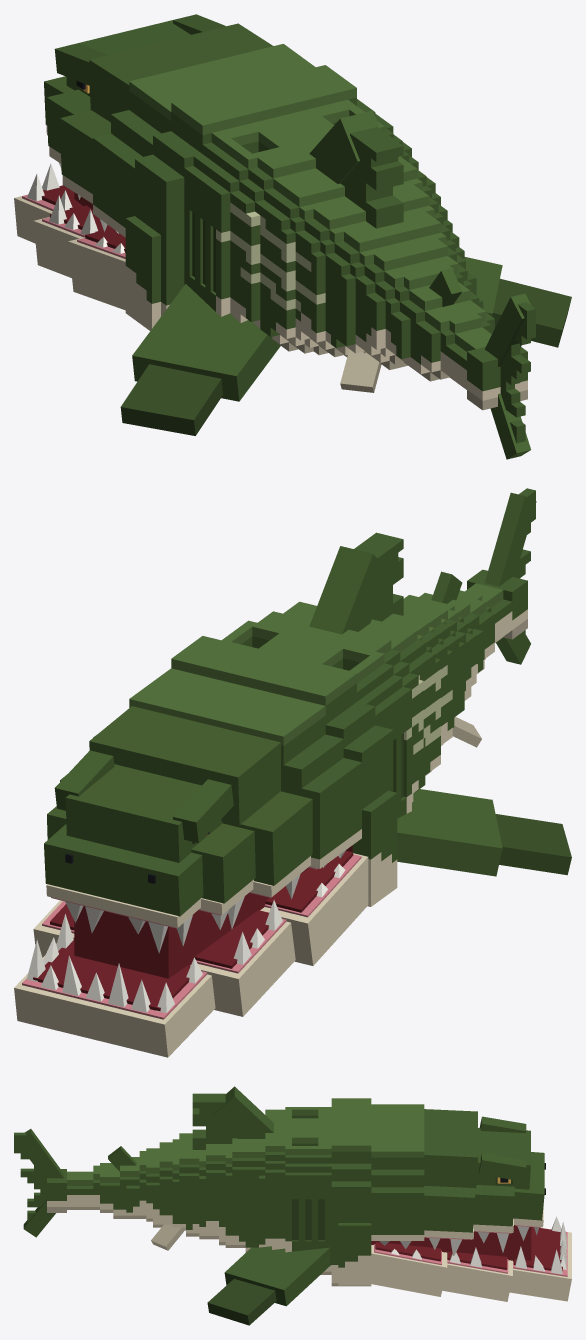
File: Otodus.obj
The picture shows the model from 3 angles, top to bottom: view 1: azimuth 30°, elevation 25°; view 2: azimuth 150°, elevation 25°; view 3: azimuth 270°, elevation 25°; orthographic projection. The views are drawn at different scales.
Visible parts, largest first — view 1: Head, S1, S2, S3, Jaw, Tail, S4, S5; view 2: Head, Jaw, S1, S2, Tail, S3, S4, S5; view 3: Head, S1, S2, Jaw, S3, Tail, S4, S5.
Boxes of the visible parts, box(x1,y1,x2,y2) form: Head: box(44, 14, 393, 330); S1: box(120, 99, 571, 435); S2: box(240, 110, 452, 356); S3: box(331, 215, 476, 392); Jaw: box(14, 163, 125, 310); Tail: box(467, 293, 536, 459); S4: box(385, 266, 489, 381); S5: box(426, 308, 494, 389); Head: box(44, 636, 397, 978); Jaw: box(14, 851, 368, 1057); S1: box(222, 615, 571, 876); S2: box(268, 532, 452, 792); Tail: box(467, 488, 536, 664); S3: box(403, 598, 481, 747); S4: box(404, 571, 489, 673); S5: box(456, 583, 512, 659); Head: box(331, 1098, 545, 1286); S1: box(207, 1107, 331, 1325); S2: box(192, 1086, 273, 1252); Jaw: box(371, 1217, 571, 1301); S3: box(146, 1133, 192, 1250); Tail: box(14, 1129, 66, 1237); S4: box(106, 1146, 146, 1218); S5: box(67, 1163, 106, 1212).
Bounding box in the file's own units: 24.84 × 15.59 × 42.16.
Materials: 1 (1 with a texture image).
